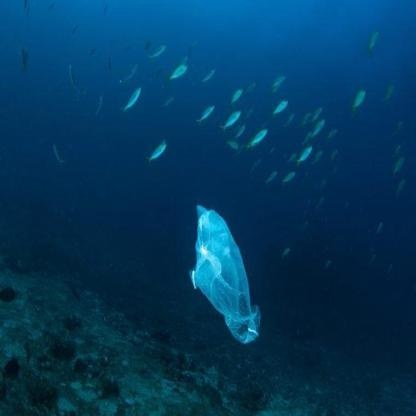pbag: (189, 204, 261, 344)
